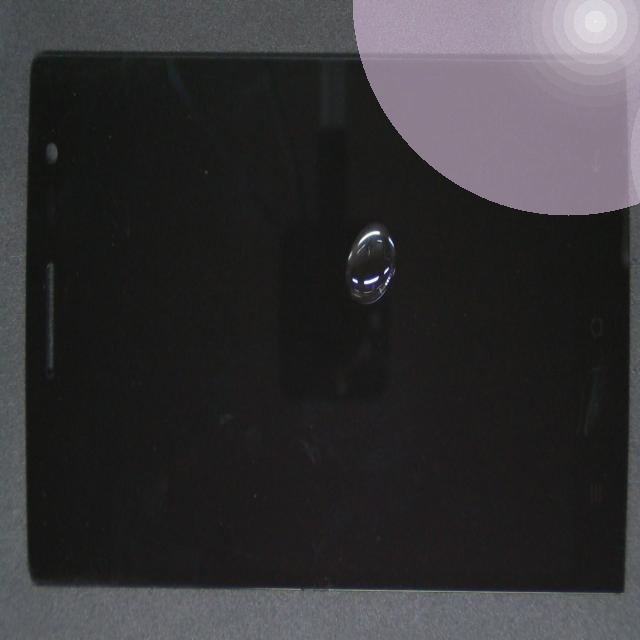oil: (185, 182, 591, 427)
